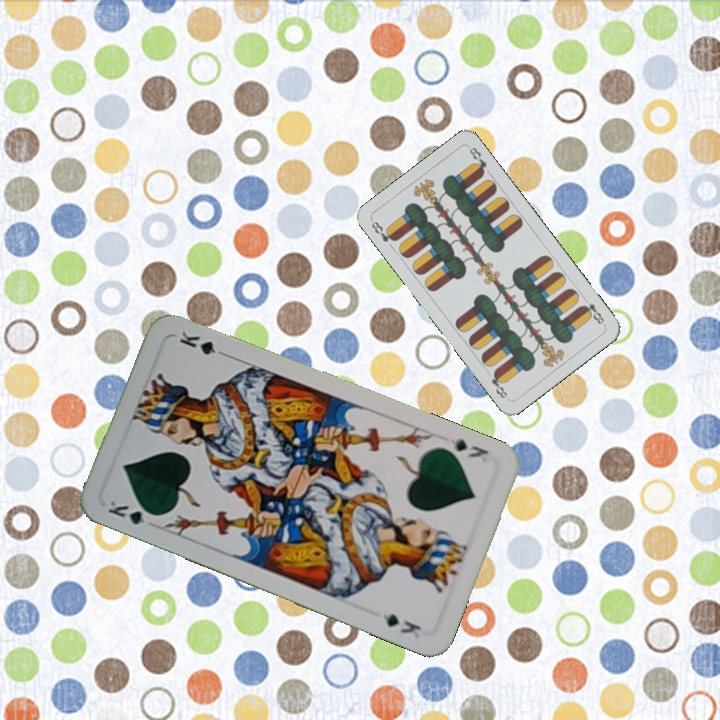E8: (577, 293, 607, 328), (367, 217, 399, 245)
GK: (103, 496, 161, 528), (445, 434, 491, 465)
